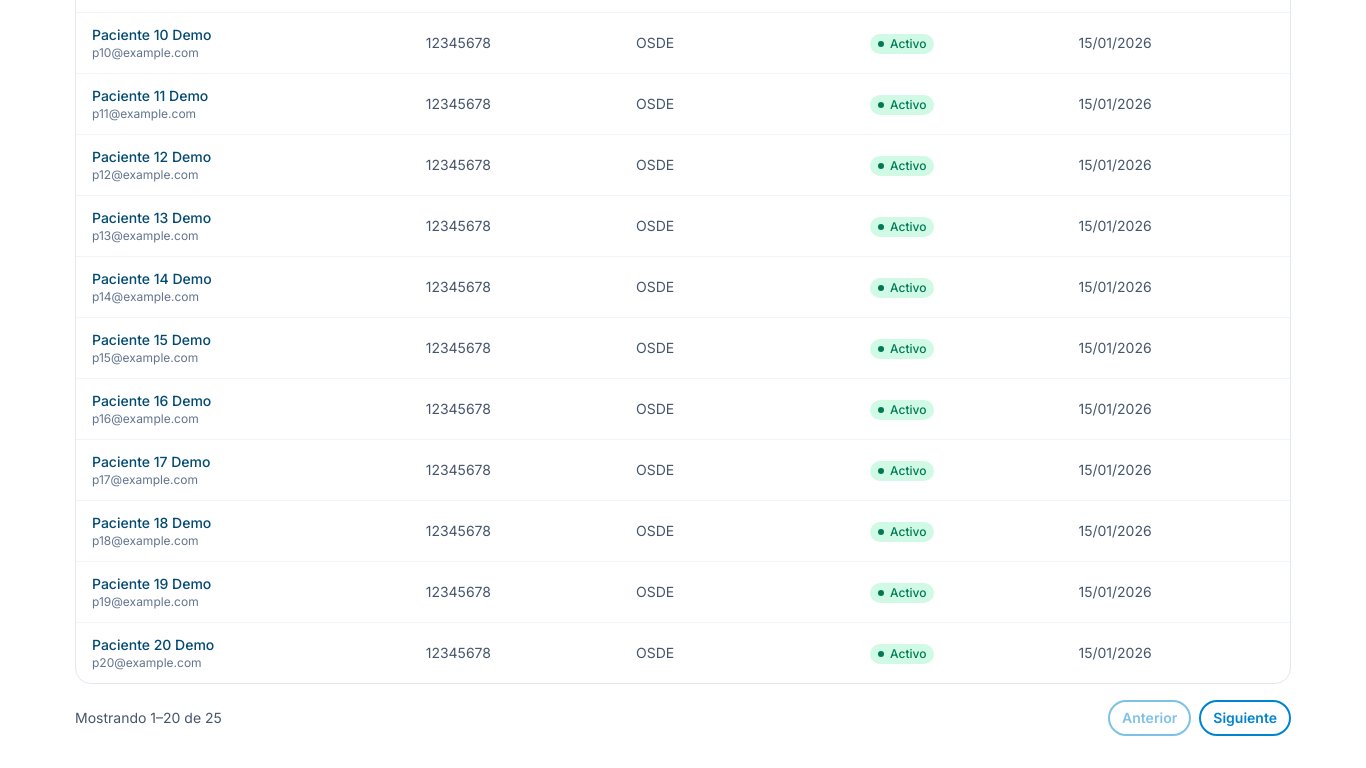
AdminPatientsPage › pagina los resultados de a 20
(page scrolled)
Expected: the text "Mostrando 1–20 de 25" is shown, [75,708,222,728]
Click the button "Siguiente". click: x=1245, y=718
box: [1199,700,1291,736]
(page scrolled)
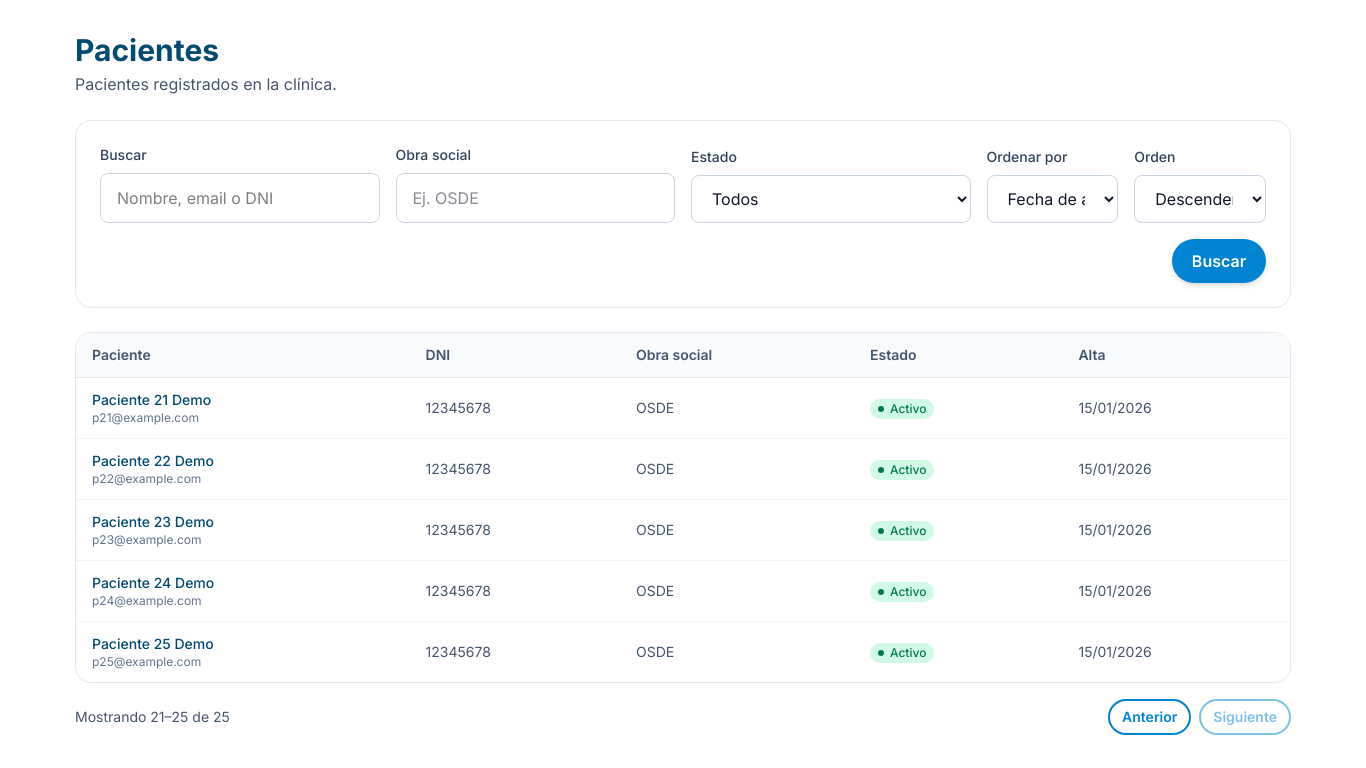
Now the text "Mostrando 21–25 de 25" is shown, box [75,707,230,727]
